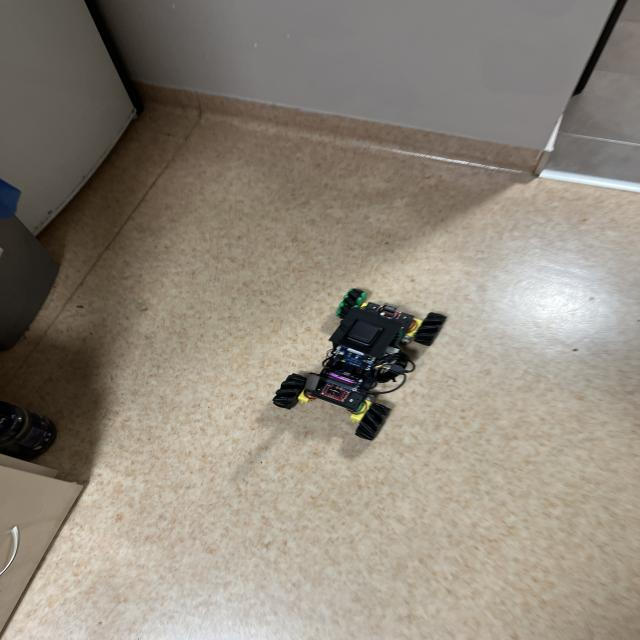robot: (273, 289, 447, 440)
